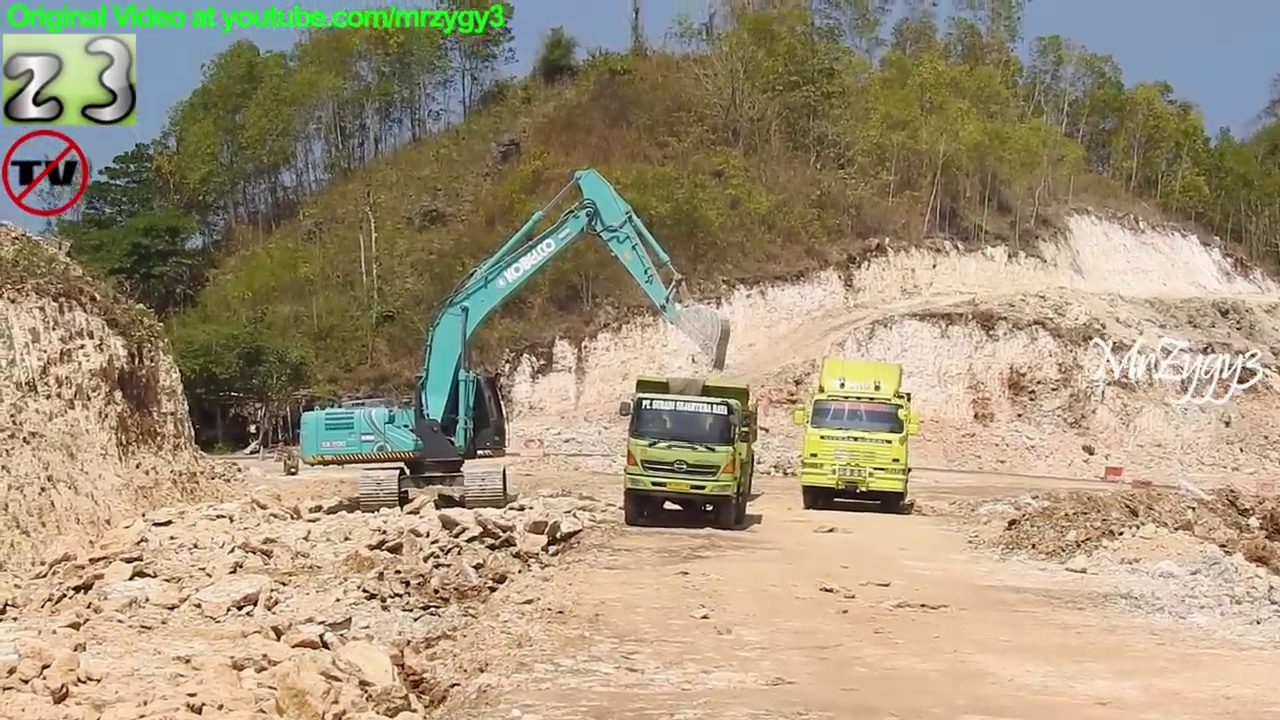excavator: (299, 169, 732, 501)
truck: (619, 375, 755, 533), (794, 357, 920, 516)
